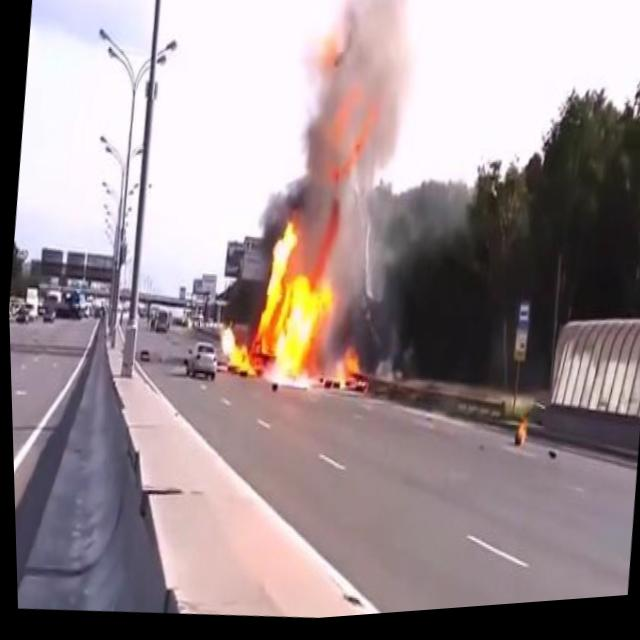fire: (204, 203, 385, 415), (512, 421, 525, 454)
